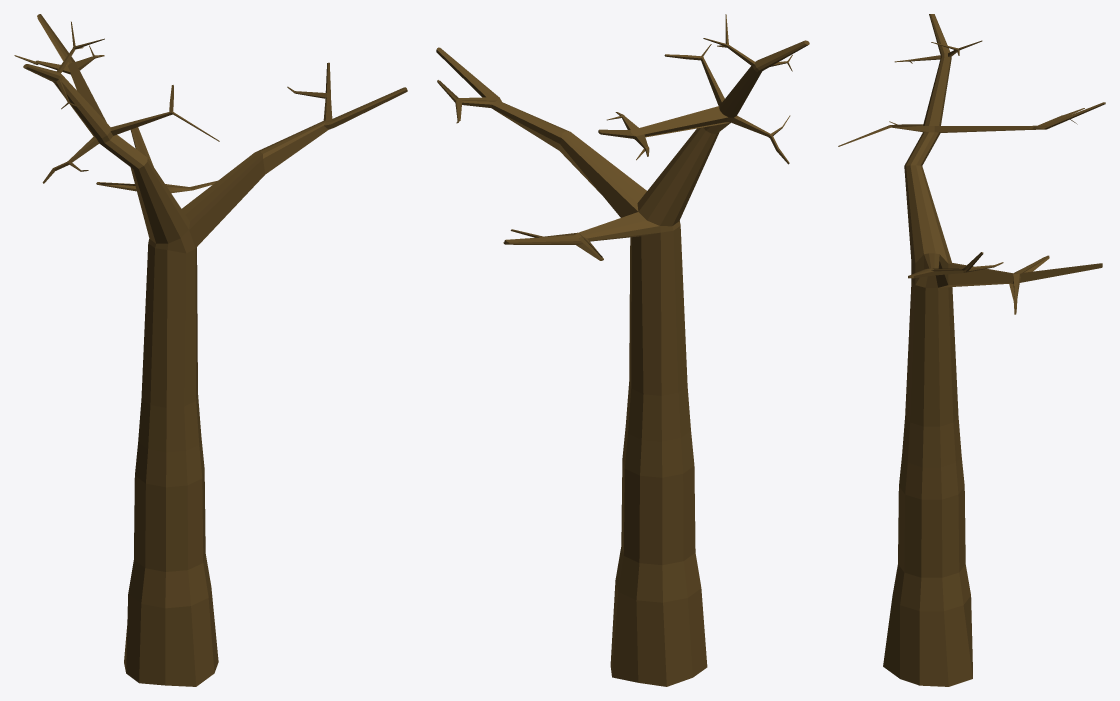
The model's file is Tree8.fbx.
The picture shows the model from 3 angles, left to right: view 1: azimuth 30°, elevation 25°; view 2: azimuth 150°, elevation 25°; view 3: azimuth 270°, elevation 25°; orthographic projection. The views are drawn at different scales.
Visible parts, largest first — view 1: Cylinder.121; view 2: Cylinder.121; view 3: Cylinder.121.
Part boxes in pixels (<box>): Cylinder.121: <box>14,14,407,686</box>; Cylinder.121: <box>436,14,809,686</box>; Cylinder.121: <box>838,14,1105,686</box>.
Bounding box in the file's own units: 4460 × 7433 × 3006.
